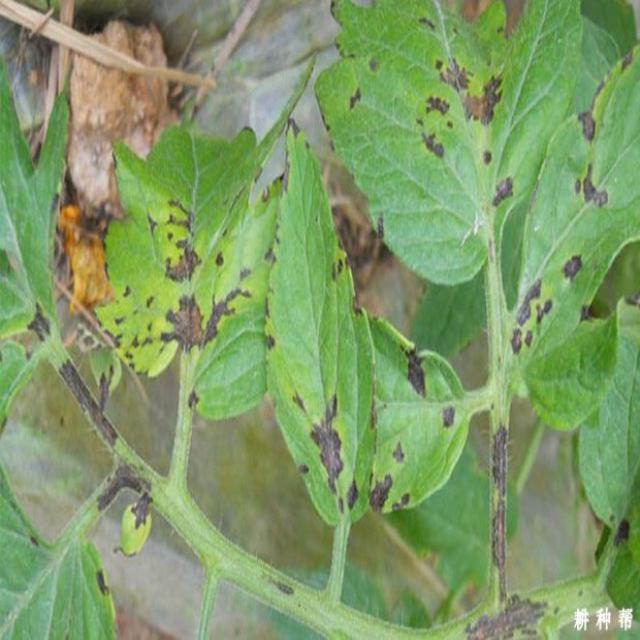Early_blight: (164, 285, 253, 356), (309, 392, 360, 514), (54, 358, 120, 447), (576, 48, 633, 142), (104, 287, 162, 372), (146, 197, 202, 284), (436, 54, 505, 124), (464, 593, 545, 640), (509, 272, 553, 353), (491, 421, 510, 601), (96, 462, 156, 516), (397, 339, 429, 401), (366, 472, 411, 516), (572, 160, 613, 207), (421, 128, 452, 160), (421, 93, 453, 122), (27, 297, 48, 340), (331, 235, 350, 281), (558, 251, 586, 282), (490, 176, 516, 207), (388, 436, 407, 468), (345, 85, 363, 115), (95, 565, 111, 598), (440, 401, 457, 429), (350, 290, 367, 318), (262, 245, 280, 269), (264, 329, 276, 355)
